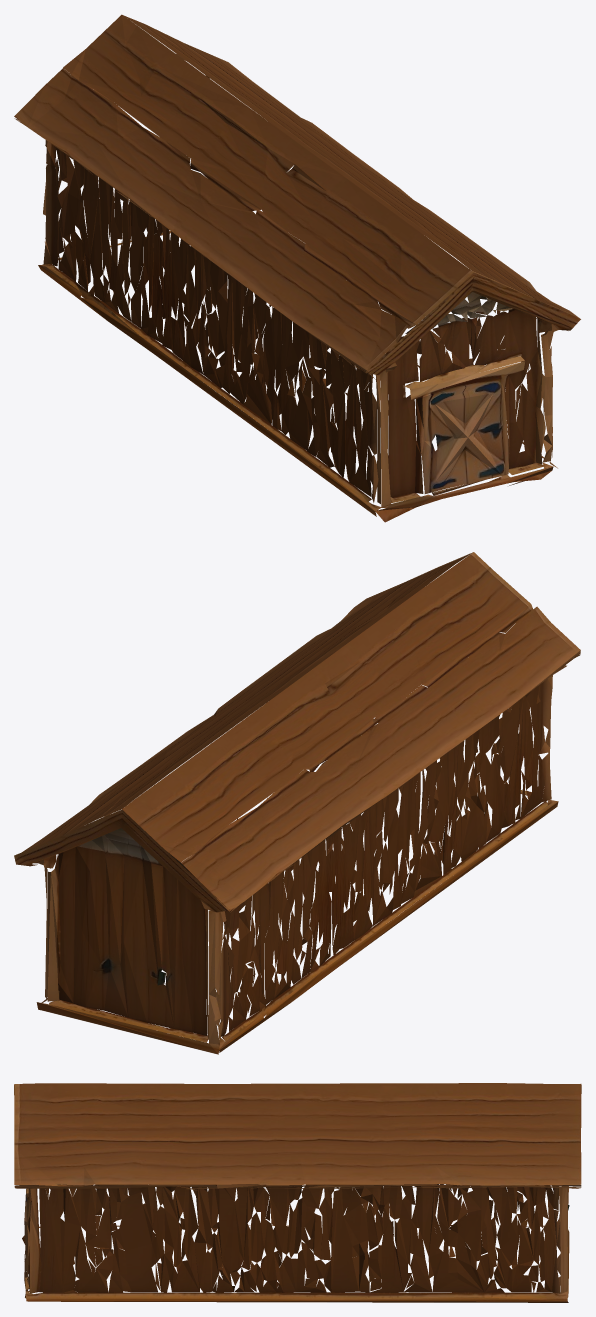
File: building_wood.glb
The picture shows the model from 3 angles, top to bottom: view 1: azimuth 30°, elevation 25°; view 2: azimuth 150°, elevation 25°; view 3: azimuth 270°, elevation 25°; orthographic projection. The views are drawn at different scales.
Parts seen in each view (by area): view 1: textured_mesh.obj; view 2: textured_mesh.obj; view 3: textured_mesh.obj.
Boxes of the visible parts, left/top/right/bottom form: textured_mesh.obj: left=14, top=14, right=580, bottom=522; textured_mesh.obj: left=14, top=552, right=580, bottom=1054; textured_mesh.obj: left=14, top=1083, right=581, bottom=1302.
Bounding box in the file's own units: 0.7046 × 0.7266 × 1.99.
Materials: 1 (1 with a texture image).
